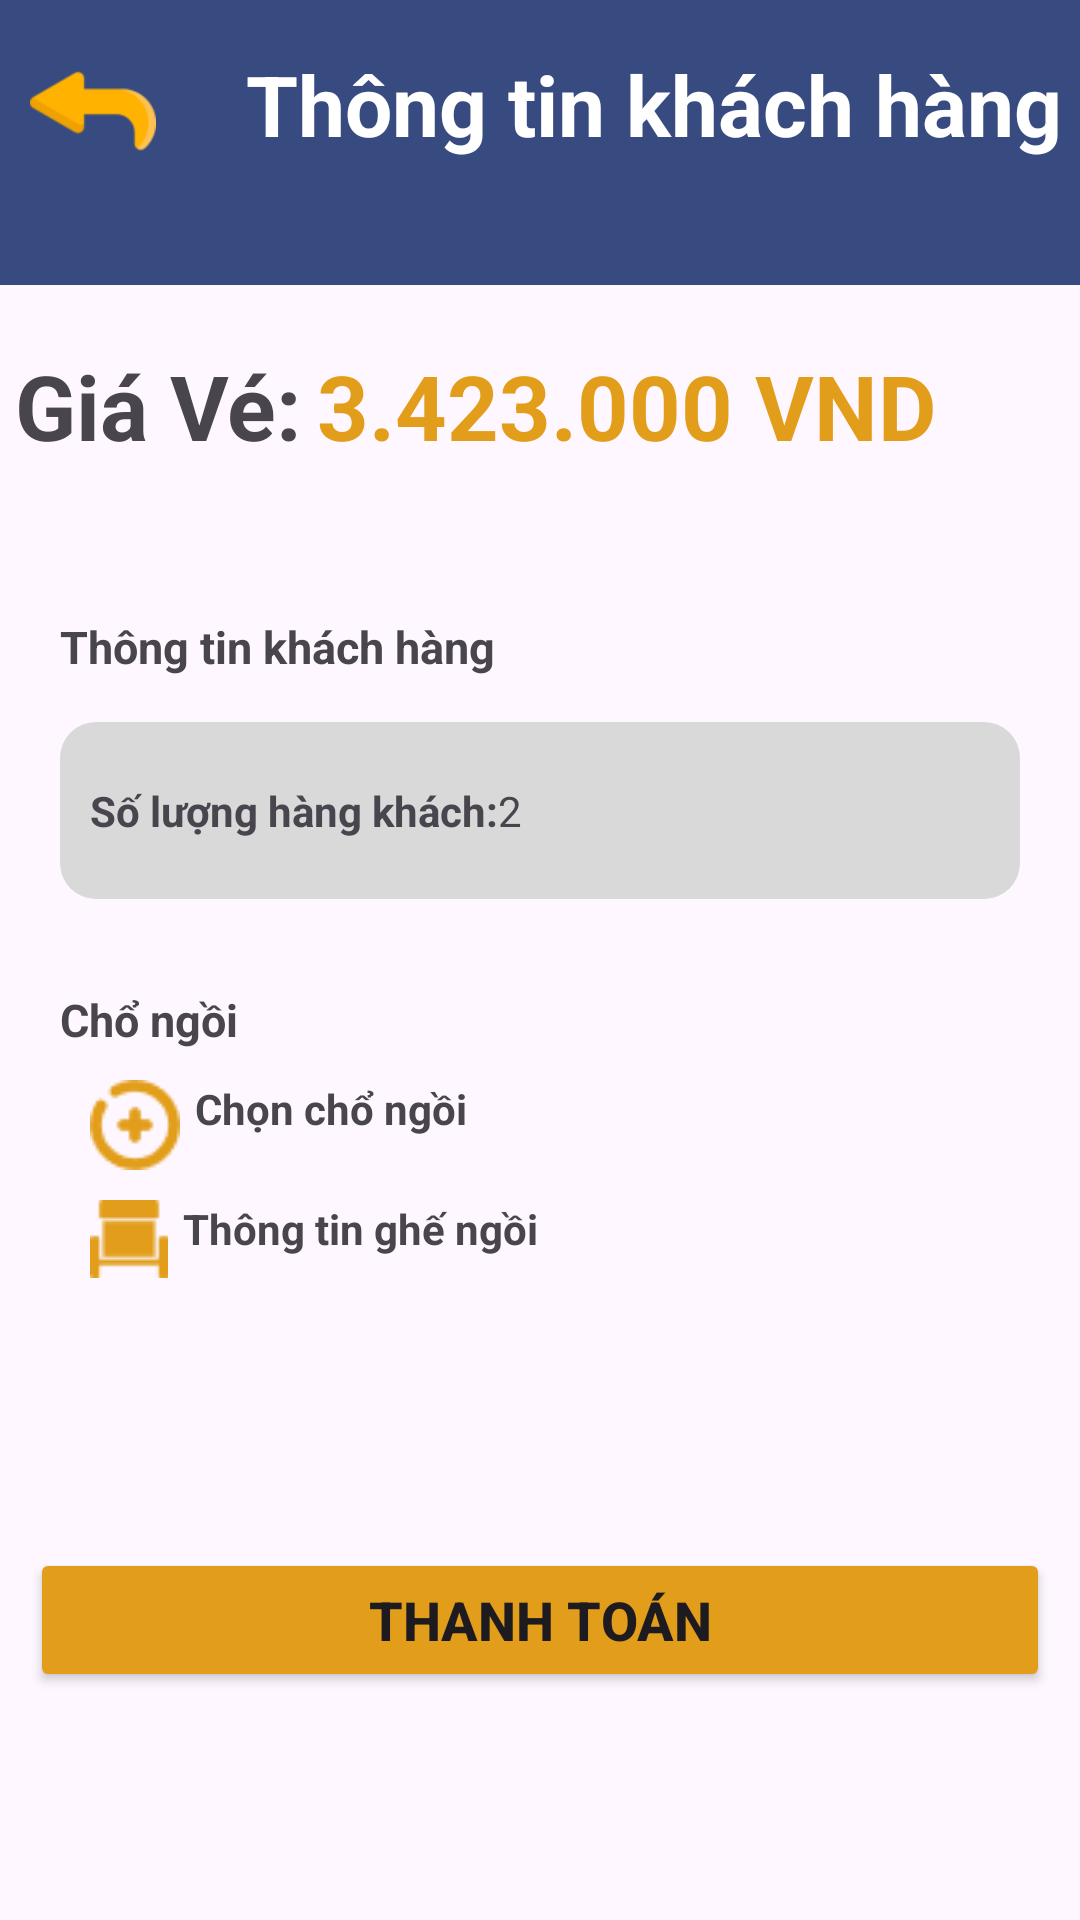

Screen size 1080 x 1920. Icon name, then its box in pixels as region(x1, y1, x2, y2):
addplace: region(90, 1080, 180, 1170)
backve: region(30, 71, 156, 151)
place: region(90, 1200, 168, 1278)
